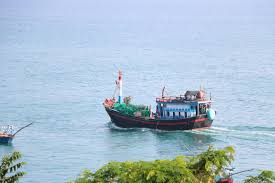tau_dansu: (103, 69, 216, 132)
